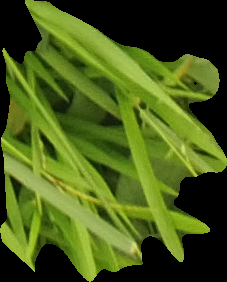grass: (1, 1, 225, 281)
